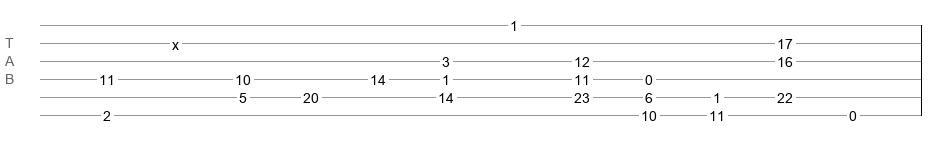0: (645, 72, 653, 82), (849, 108, 857, 118)
1: (442, 72, 450, 82), (510, 18, 518, 28), (713, 90, 721, 100)
10: (235, 72, 251, 82), (641, 108, 657, 118)
11: (99, 72, 115, 82), (574, 72, 590, 82), (709, 108, 725, 118)
12: (574, 54, 590, 64)
14: (370, 72, 386, 82), (438, 90, 454, 100)
16: (777, 54, 793, 64)
17: (777, 36, 793, 46)
2: (103, 108, 111, 118)
20: (303, 90, 319, 100)
22: (777, 90, 793, 100)
23: (574, 90, 590, 100)
3: (442, 54, 450, 64)
5: (239, 90, 247, 100)
6: (645, 90, 653, 100)
x: (172, 37, 179, 45)
